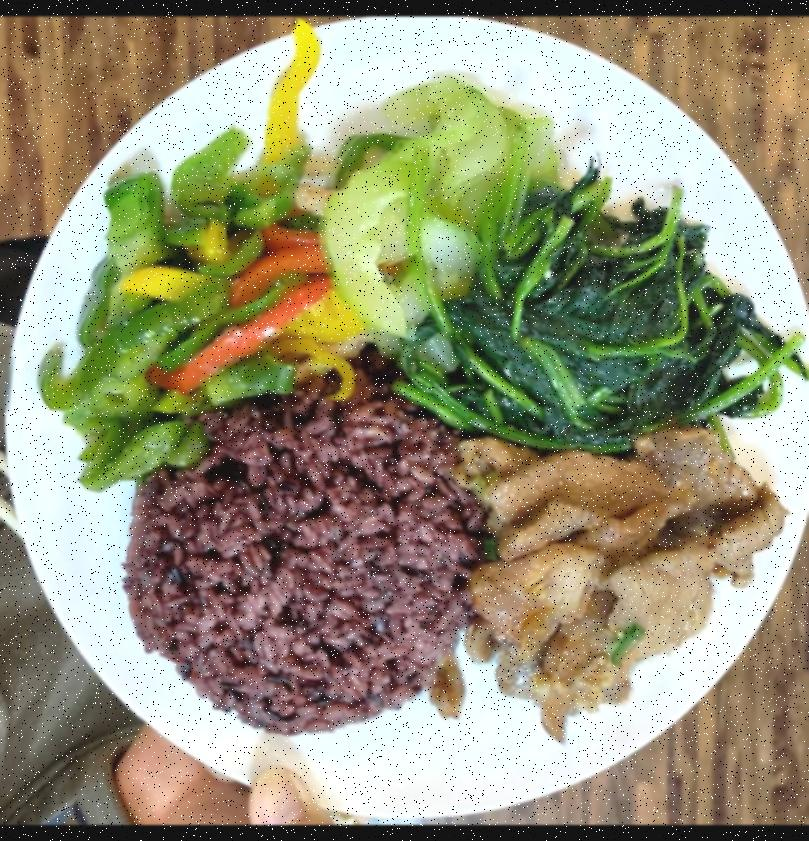big fried chicken leg: (4, 16, 809, 825)
braised fish: (126, 380, 480, 742)
braised fish fillet: (38, 21, 346, 491), (404, 168, 806, 441), (322, 70, 506, 338)
braised pork: (459, 414, 772, 738)
